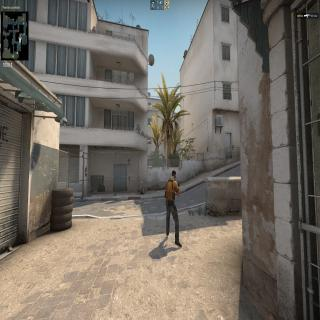T-Head: (172, 169, 176, 180)
